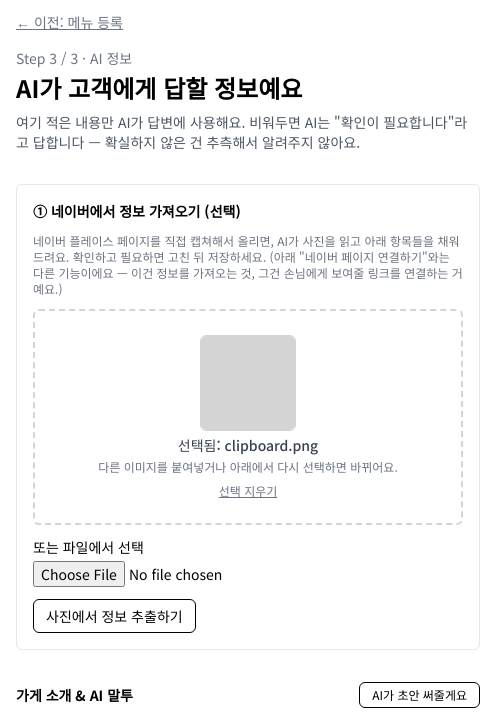
BusinessProfilePage - 네이버 화면 캡쳐 업로드로 정보 채우기 › '선택 지우기'를 누르면 다시 붙여넣기 안내로 돌아가고 추출 버튼이 비활성화된다
The width and height of the screenshot is (497, 723).
Expected: the text "Step 3 / 3 · AI 정보" is shown, [16, 48, 132, 68]
Expected: the text "선택됨: clipboard.png" is shown, [178, 435, 318, 455]
Click the button "선택 지우기": (248, 491) [219, 483, 277, 499]
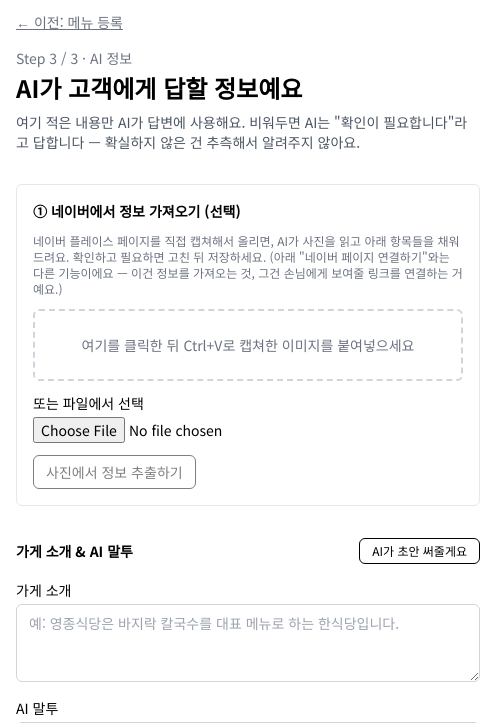
Now the text "선택됨: clipboard.png" is gone
Now the text "여기를 클릭한 뒤 Ctrl+V로 캡쳐한 이미지를 붙여넣으세요" is shown, box [82, 335, 414, 355]
Now the button "사진에서 정보 추출하기" is disabled, box [33, 455, 196, 489]
